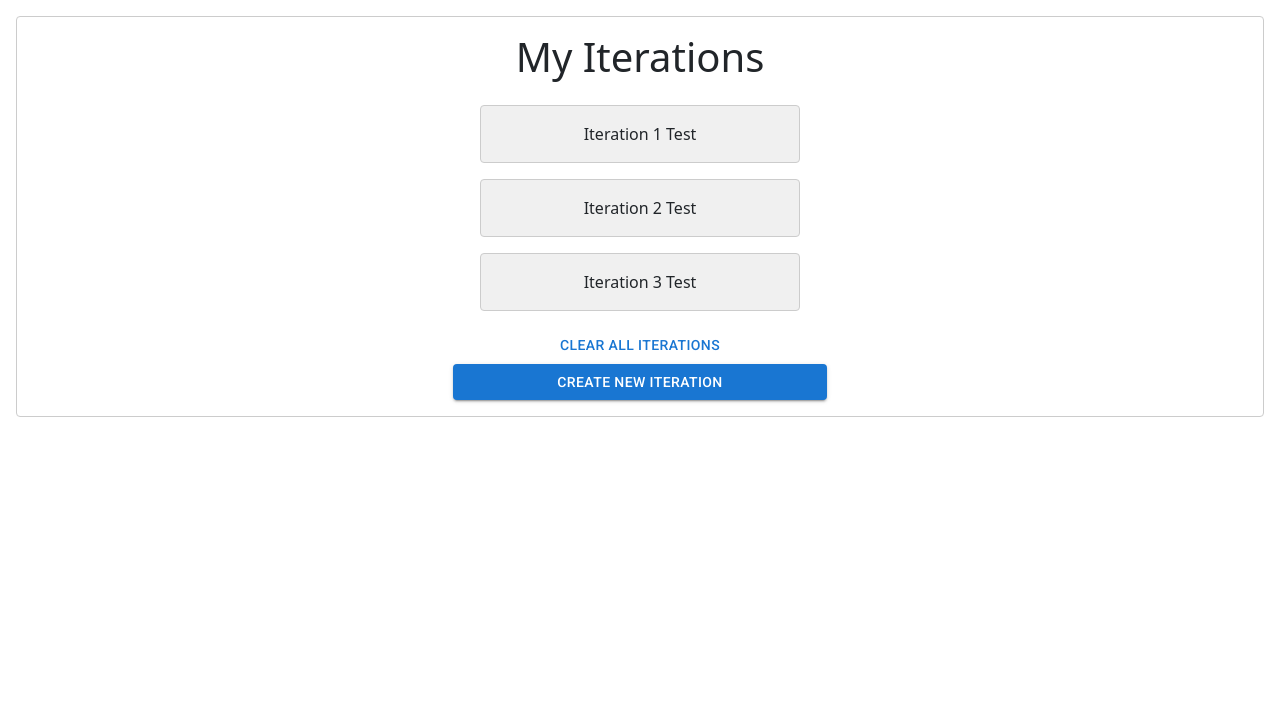
Test case: DashboardView › shows an iteration in the showcase when an iteration from the list is clicked
This screenshot has width=1280, height=720.
click on the first iteration
Click the text "Iteration 1 Test".
click(640, 134)  # box x1=584 y1=123 x2=696 y2=145
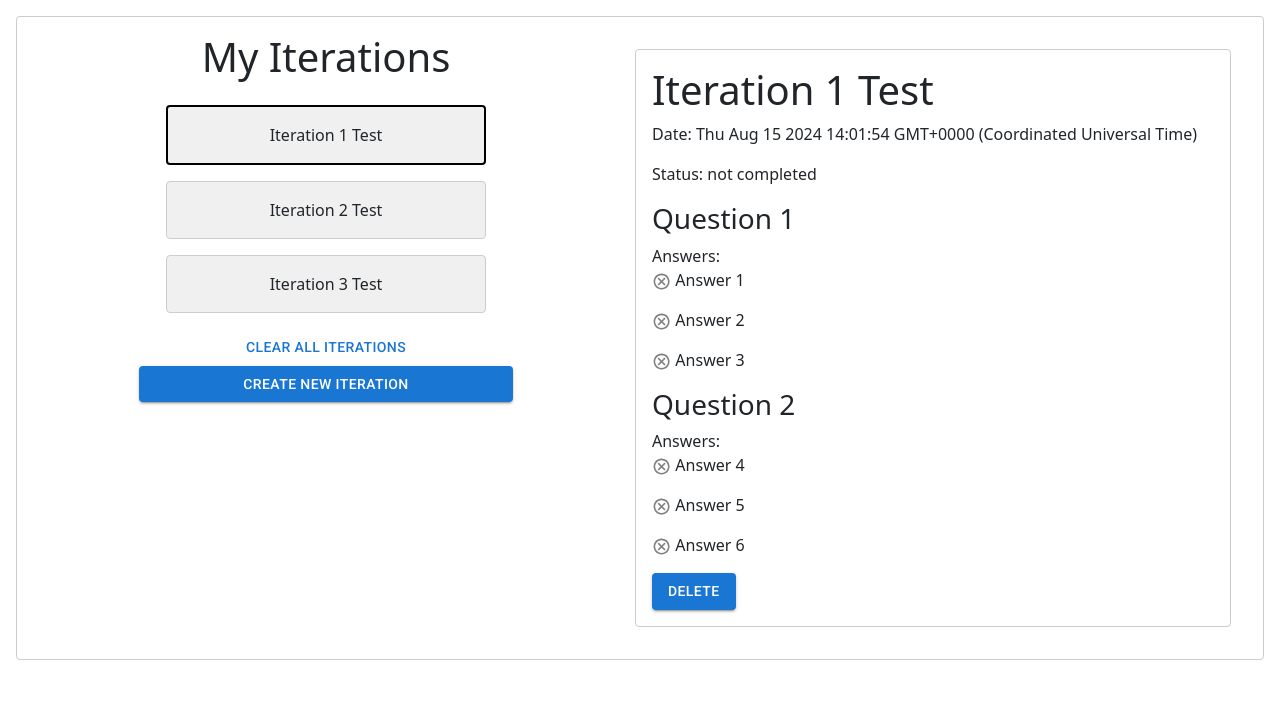
Expected: the element with class "iteration-showcase-container" is shown, x1=635 y1=49 x2=1231 y2=627
Expected: the heading with test id "selected-iteration-title" reads "Iteration 1 Test", x1=652 y1=62 x2=934 y2=117
